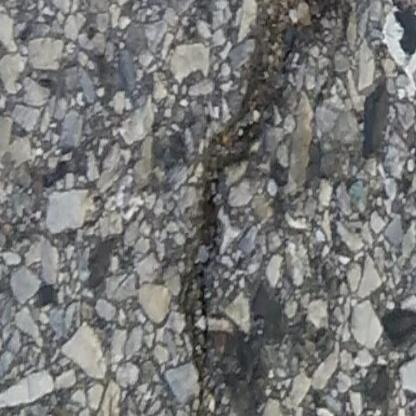Cracks: (178, 0, 353, 416)
